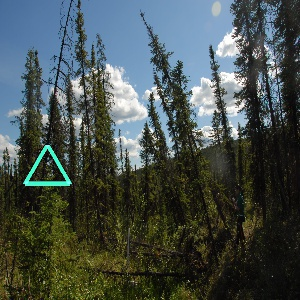triangle: (19, 140, 73, 188)
